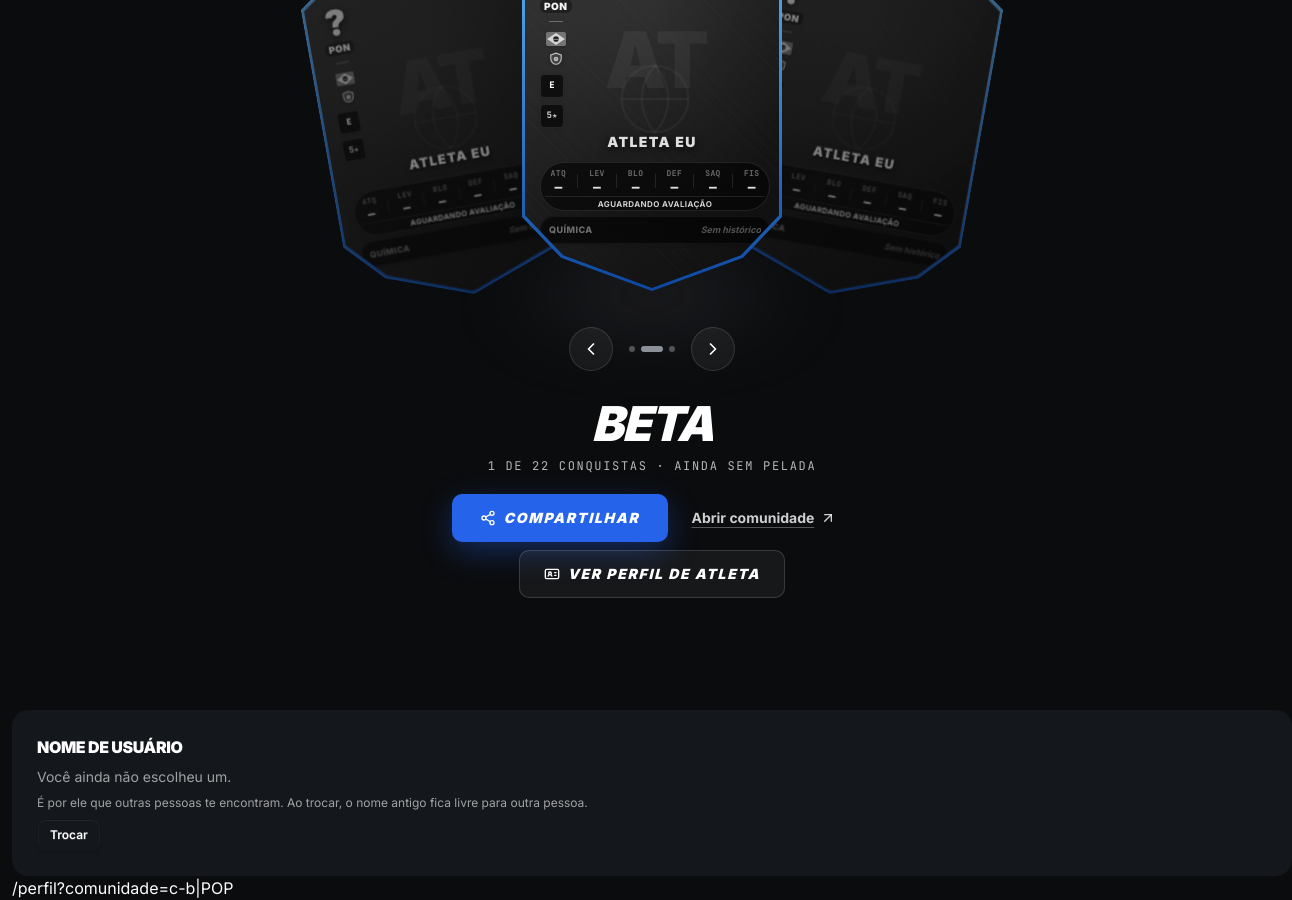
Test: PerfilRoute: Minha carta › Ver perfil de atleta empilha ?vista=atleta e mostra o painel
(page scrolled)
Click the button "Ver perfil de atleta".
click(652, 574)  # box [519,550,785,598]
(page scrolled)
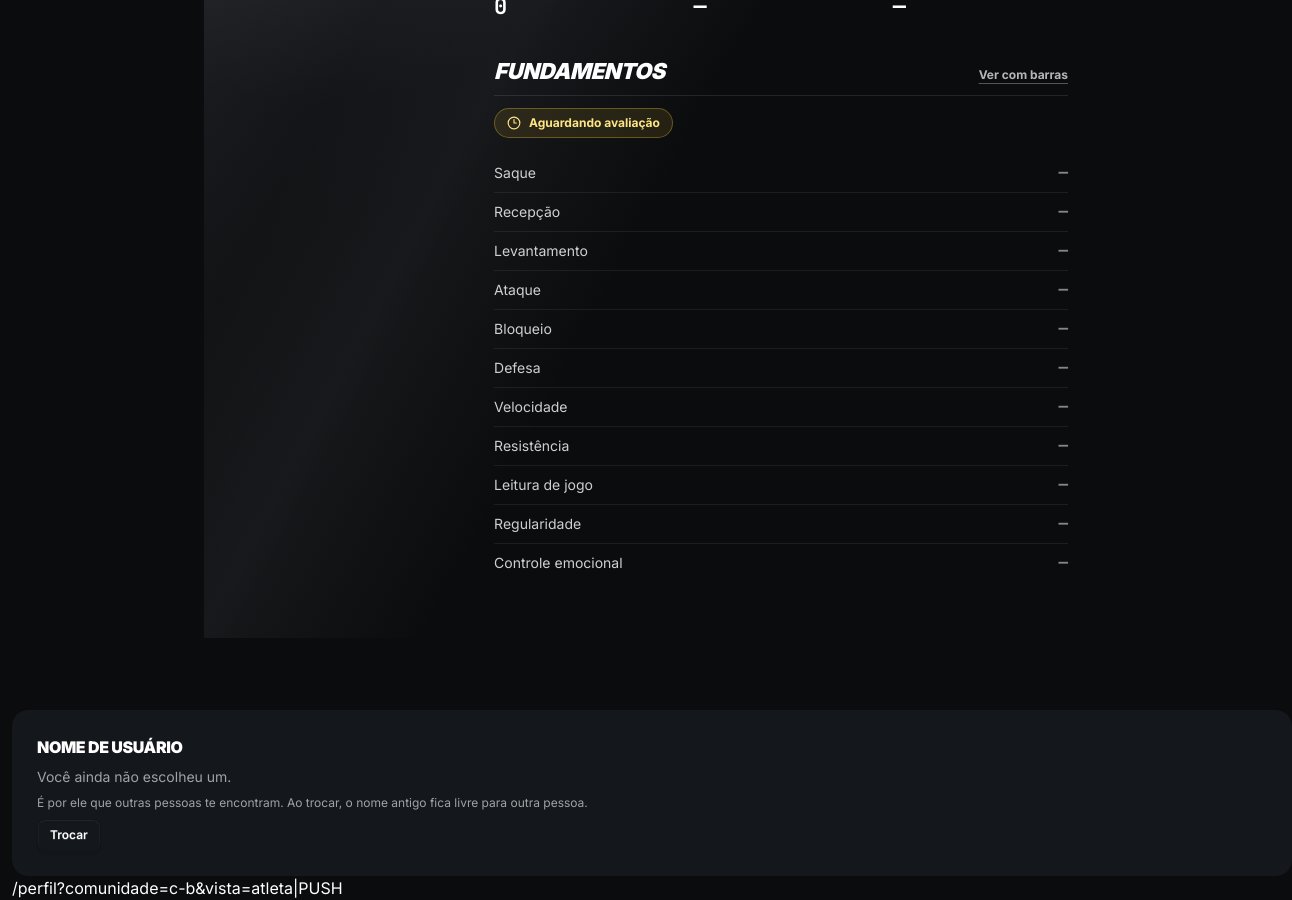
Check: the text with test id "sonda" reads "/perfil?comunidade=c-b&vista=atleta|PUSH", box [298,878,343,898]
